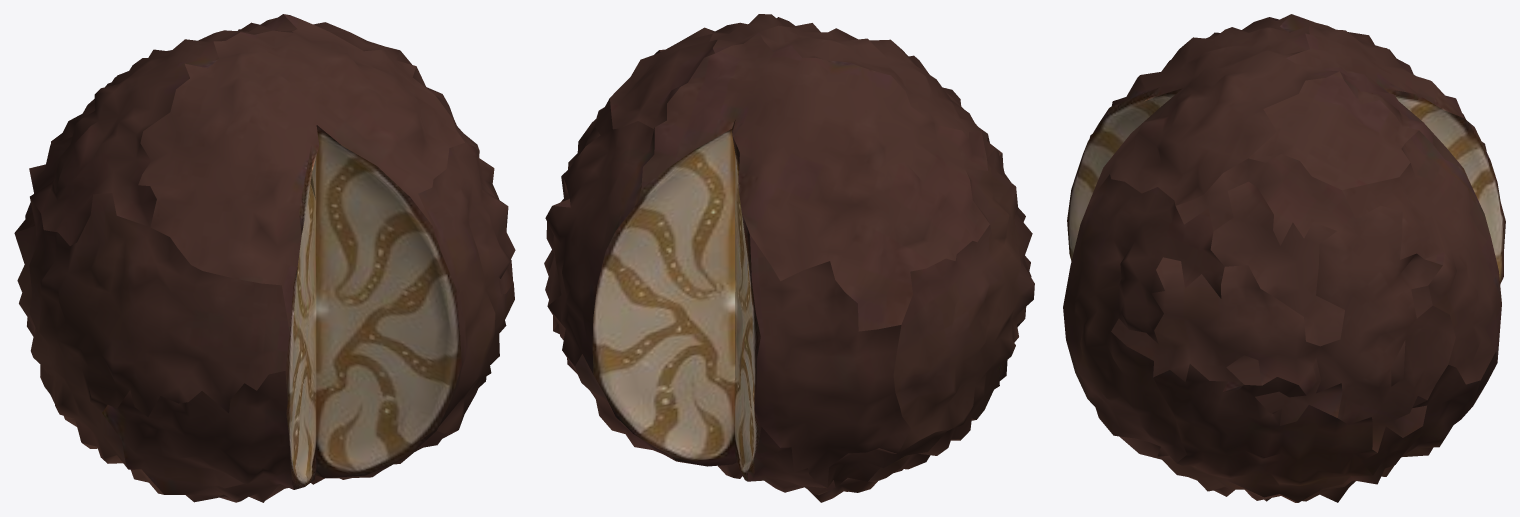
The model's file is deep_truffle.glb.
3 renders of one model, left to right at view 1: azimuth 30°, elevation 25°; view 2: azimuth 150°, elevation 25°; view 3: azimuth 270°, elevation 25°, orthographic. The views are drawn at different scales.
Visible parts, largest first — view 1: deep_truffle; view 2: deep_truffle; view 3: deep_truffle.
Boxes of the visible parts, x1=… form: deep_truffle: x1=14, y1=14, x2=515, y2=502; deep_truffle: x1=544, y1=14, x2=1034, y2=502; deep_truffle: x1=1063, y1=14, x2=1505, y2=502.
Size of the model in its own units: 1 by 0.9887 by 0.9182.
Materials: 1 (1 with a texture image).
